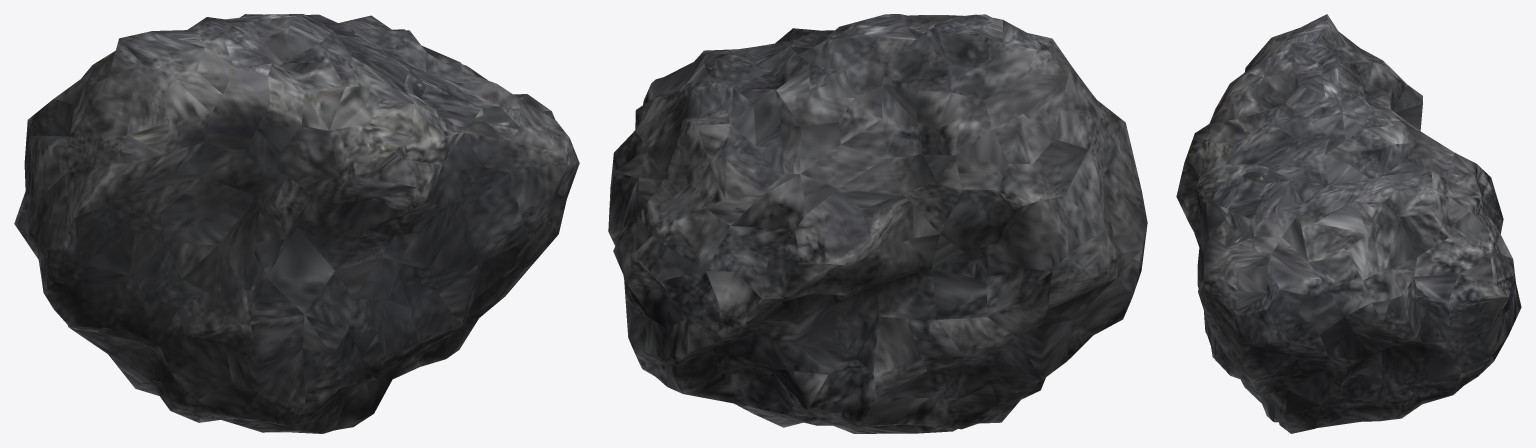
The model's file is asteroid_05.glb.
The picture shows the model from 3 angles, left to right: view 1: azimuth 30°, elevation 25°; view 2: azimuth 150°, elevation 25°; view 3: azimuth 270°, elevation 25°; orthographic projection. The views are drawn at different scales.
Visible parts, largest first — view 1: Mesh_0; view 2: Mesh_0; view 3: Mesh_0.
Part boxes in pixels (box(x1,y1,x2,y2)): Mesh_0: box(14, 14, 579, 433); Mesh_0: box(608, 14, 1147, 433); Mesh_0: box(1176, 14, 1521, 433).
Bounding box in the file's own units: 1.9 × 1.49 × 1.42.
1 material, 1 textured.
